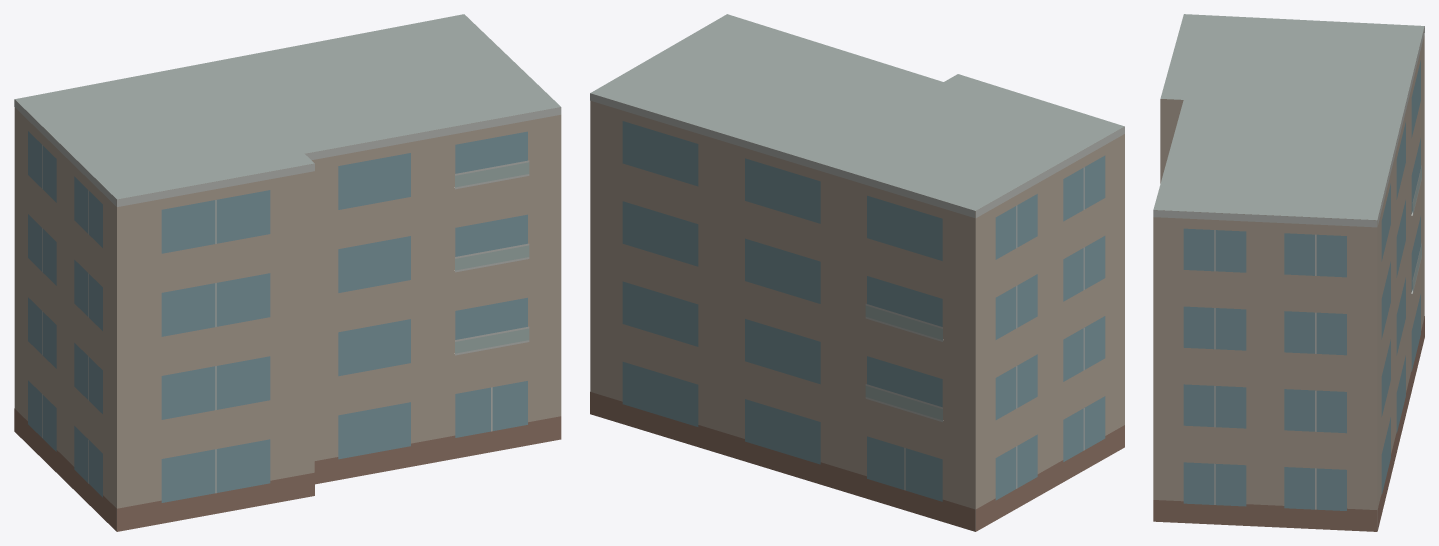
Rendered from survey-upis-32809951.glb.
3 views of the same model, side by side, from view 1: azimuth 30°, elevation 25°; view 2: azimuth 150°, elevation 25°; view 3: azimuth 270°, elevation 25° (orthographic). The views are drawn at different scales.
Visible parts, largest first — view 1: survey-upis-32809951.tmp; view 2: survey-upis-32809951.tmp; view 3: survey-upis-32809951.tmp.
Part boxes in pixels (box(x1,y1,x2,y2)): survey-upis-32809951.tmp: box(14, 14, 561, 531); survey-upis-32809951.tmp: box(590, 14, 1124, 531); survey-upis-32809951.tmp: box(1153, 14, 1424, 531).
Bounding box in the file's own units: 14.95 × 10.53 × 8.32.
